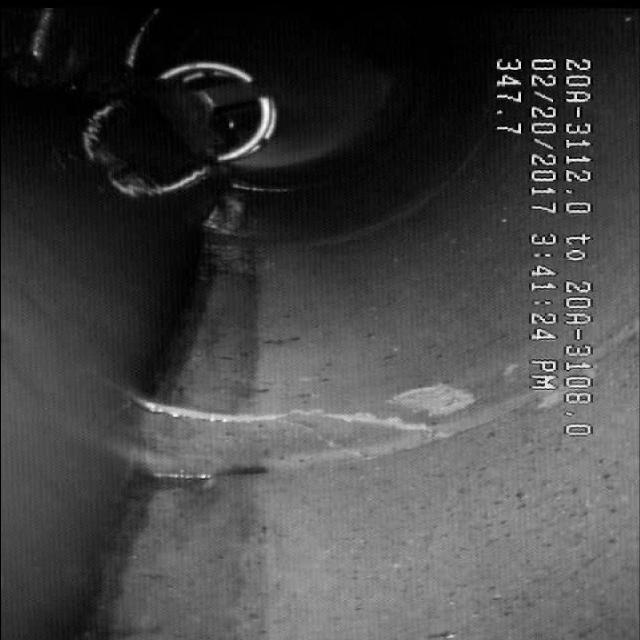Crack: (136, 369, 466, 452)
